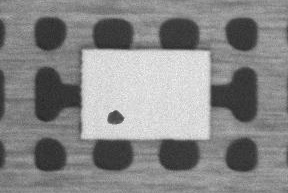DIE_INK: (157, 73, 188, 85)
